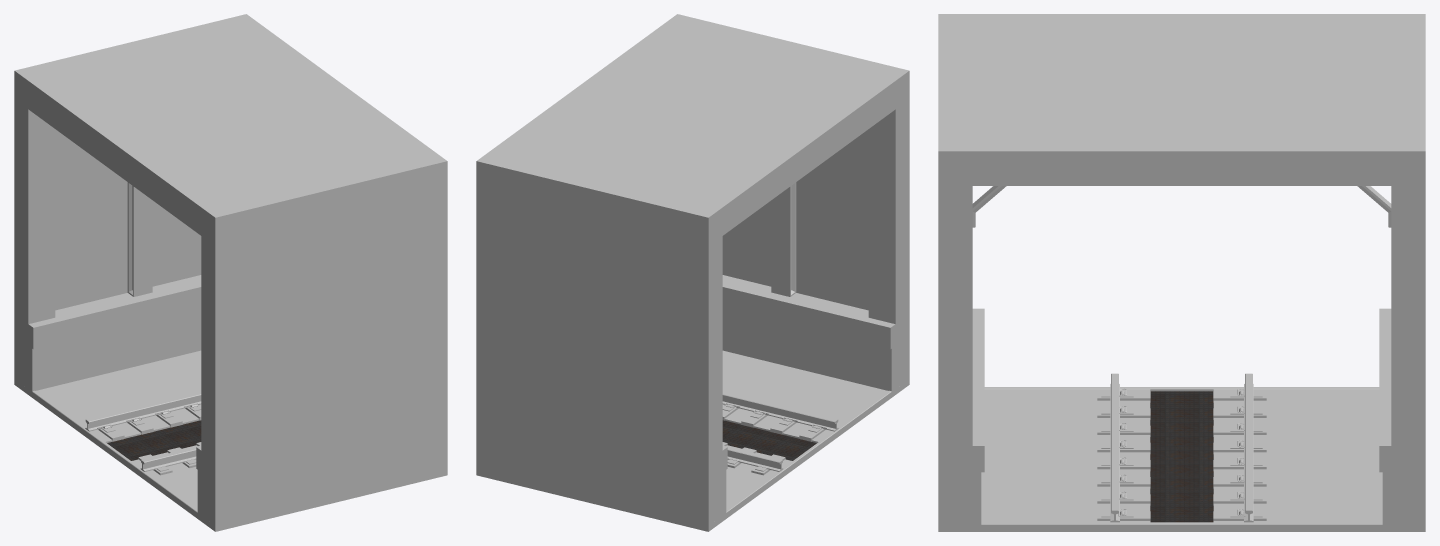
File: SM_Tunnel_A_4m.fbx
3 views of the same model, side by side, from view 1: azimuth 30°, elevation 25°; view 2: azimuth 150°, elevation 25°; view 3: azimuth 270°, elevation 25° (orthographic). The views are drawn at different scales.
Visible parts, largest first — view 1: SM_Tunnel_A_4m; view 2: SM_Tunnel_A_4m; view 3: SM_Tunnel_A_4m.
Part boxes in pixels (x1,y1,x2,y2): SM_Tunnel_A_4m: (14,14,447,531); SM_Tunnel_A_4m: (476,14,909,531); SM_Tunnel_A_4m: (938,14,1425,531).
Size of the model in its own units: 400 by 517 by 600.
